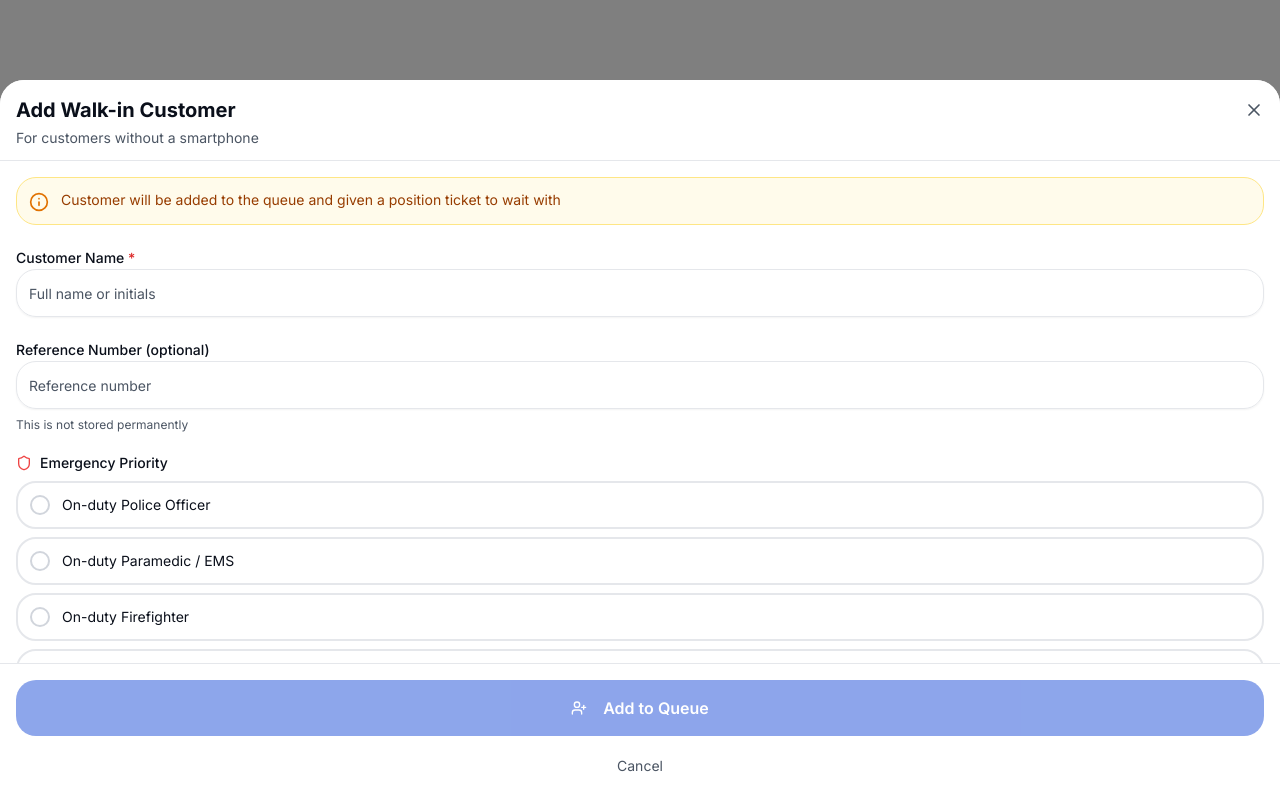
it: AddWalkInModal › toggles off emergency radio when clicked again
Click the text "On-duty Police Officer" at (136, 505), box [62,495,210,515]
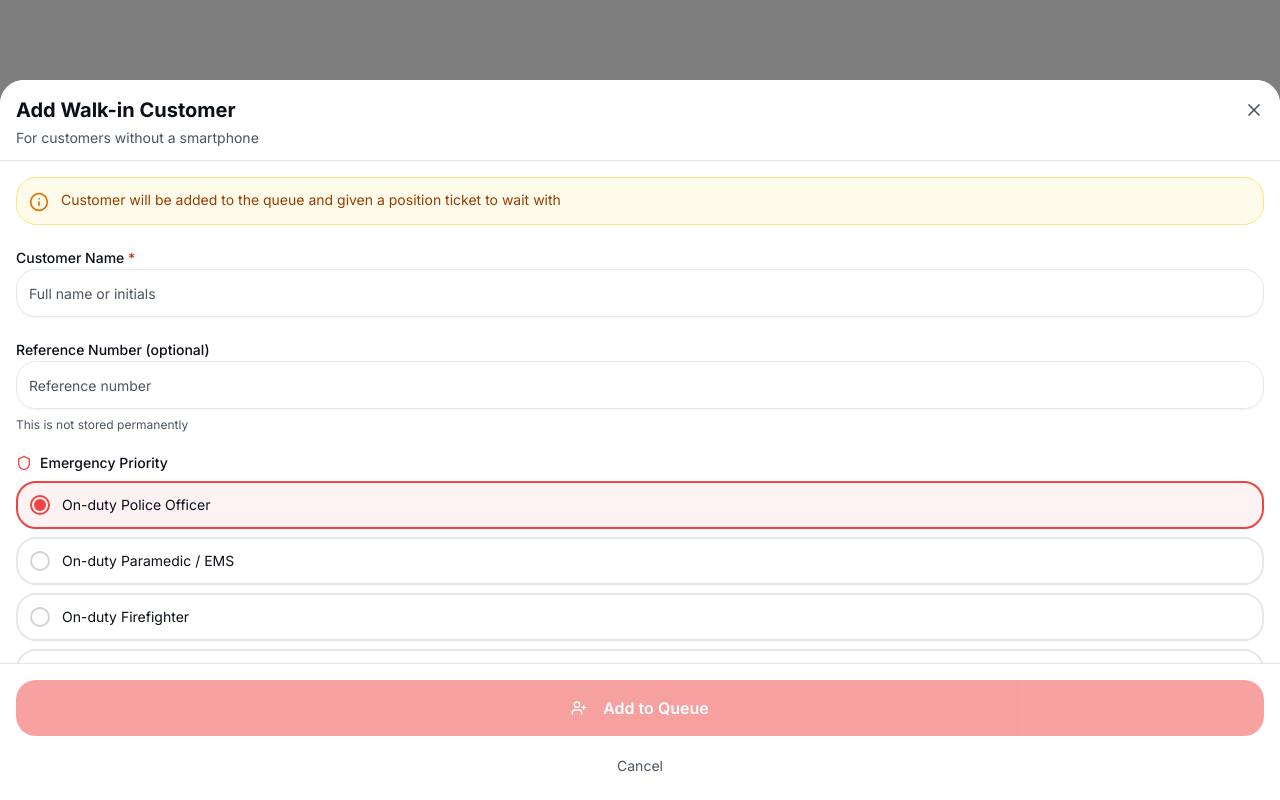
Click the text "On-duty Police Officer" at (136, 505), box [62,495,210,515]
(page scrolled)
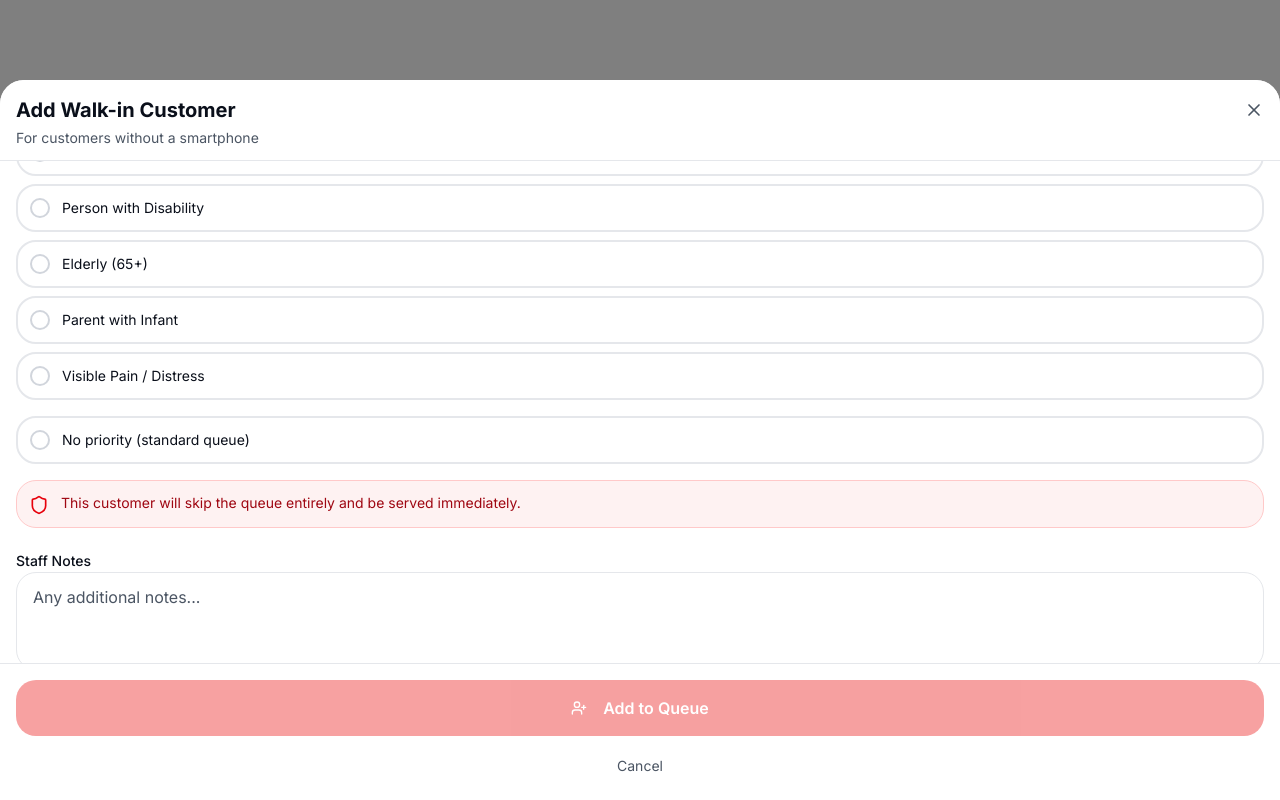
Now the text "No priority (standard queue)" is shown, box [62,430,250,450]
